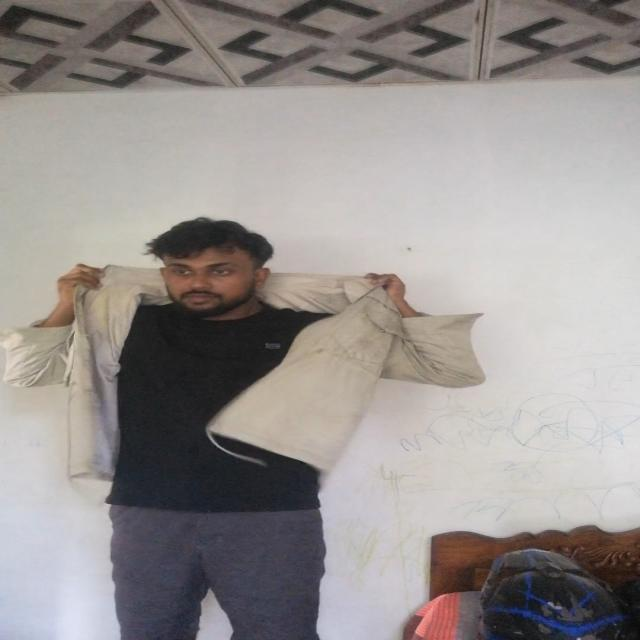Jacket_Wearer: (9, 267, 480, 505)
Person: (43, 210, 438, 636)
